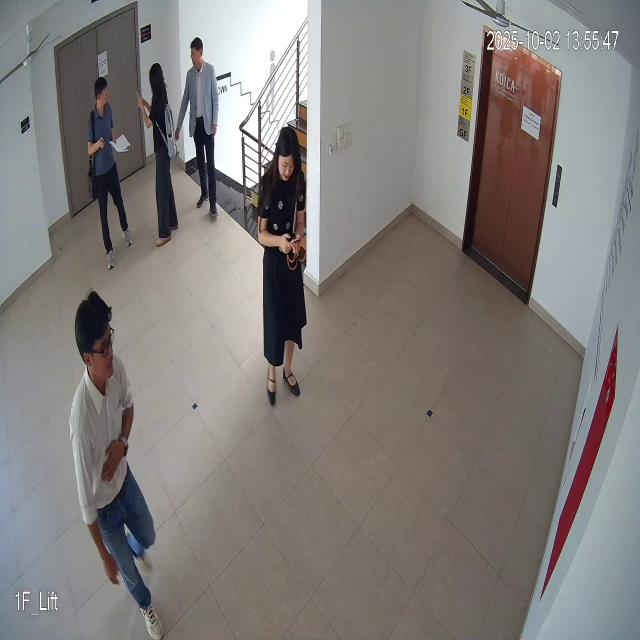face: (74, 286, 118, 388), (274, 122, 300, 186)
